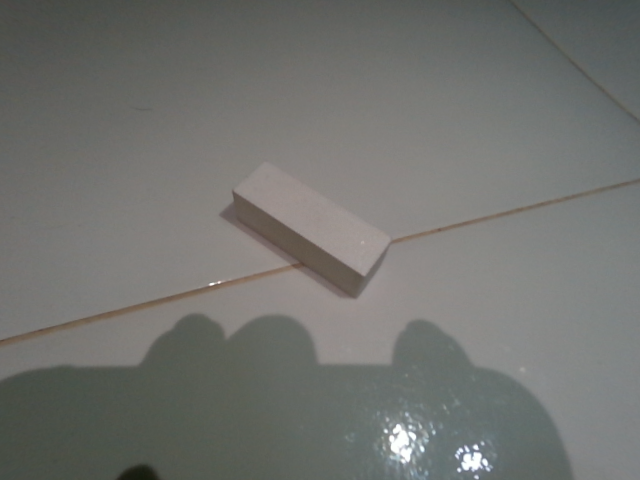Balok-Putih: (224, 158, 388, 285)
